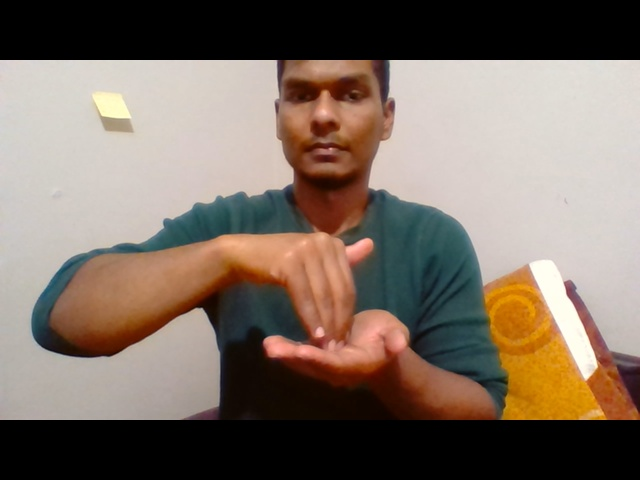ExcuseMe: (216, 226, 415, 392)
